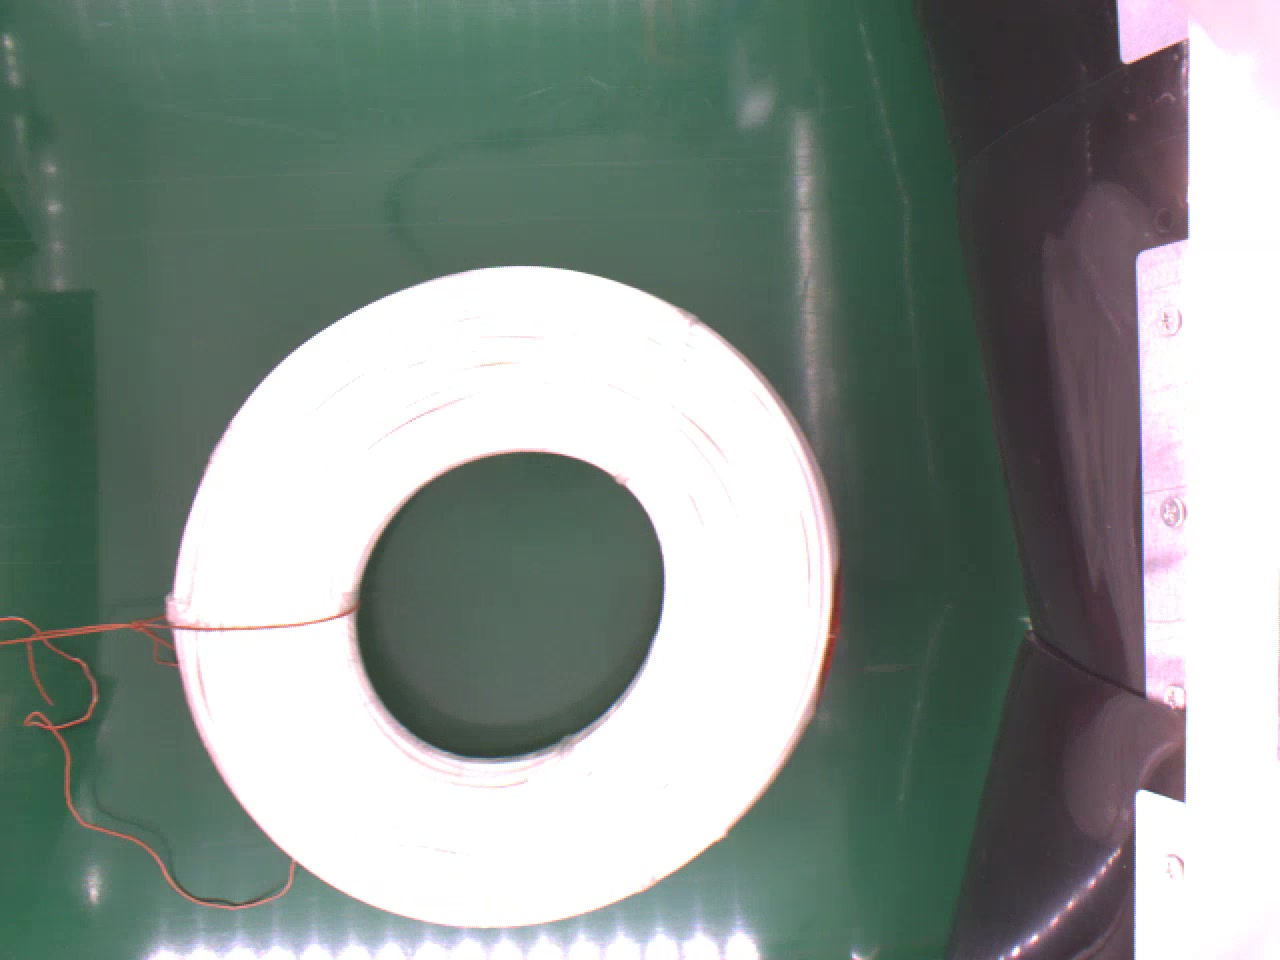white: (167, 262, 842, 928)
